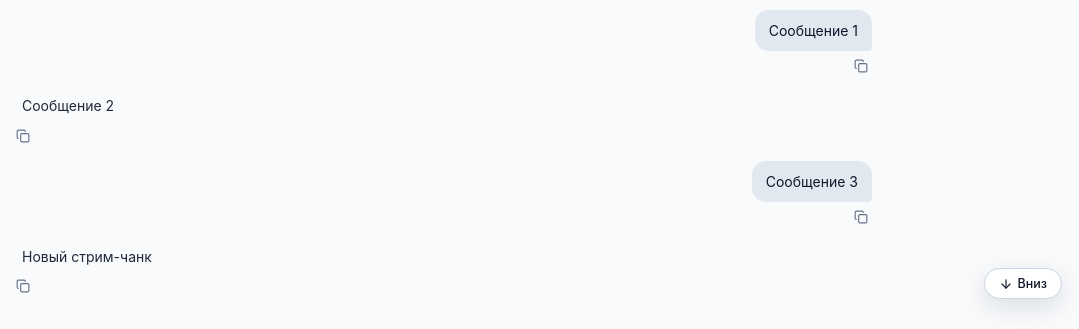
Test: ChatViewport and MessageItem › отключает автоскролл при прокрутке вверх и возвращает его кнопкой «Вниз»
This screenshot has width=1079, height=329.
(page scrolled)
Click the button "Вниз" at (1023, 284), box top-left (984, 268), bottom-right (1062, 299)
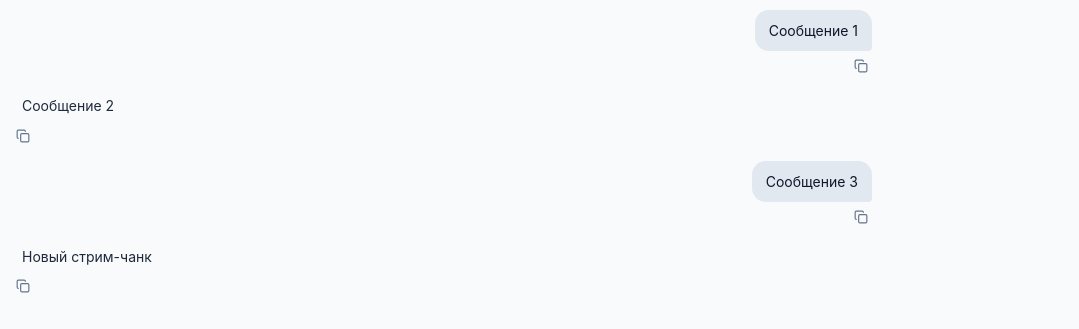
Expected: the button "Вниз" is gone
